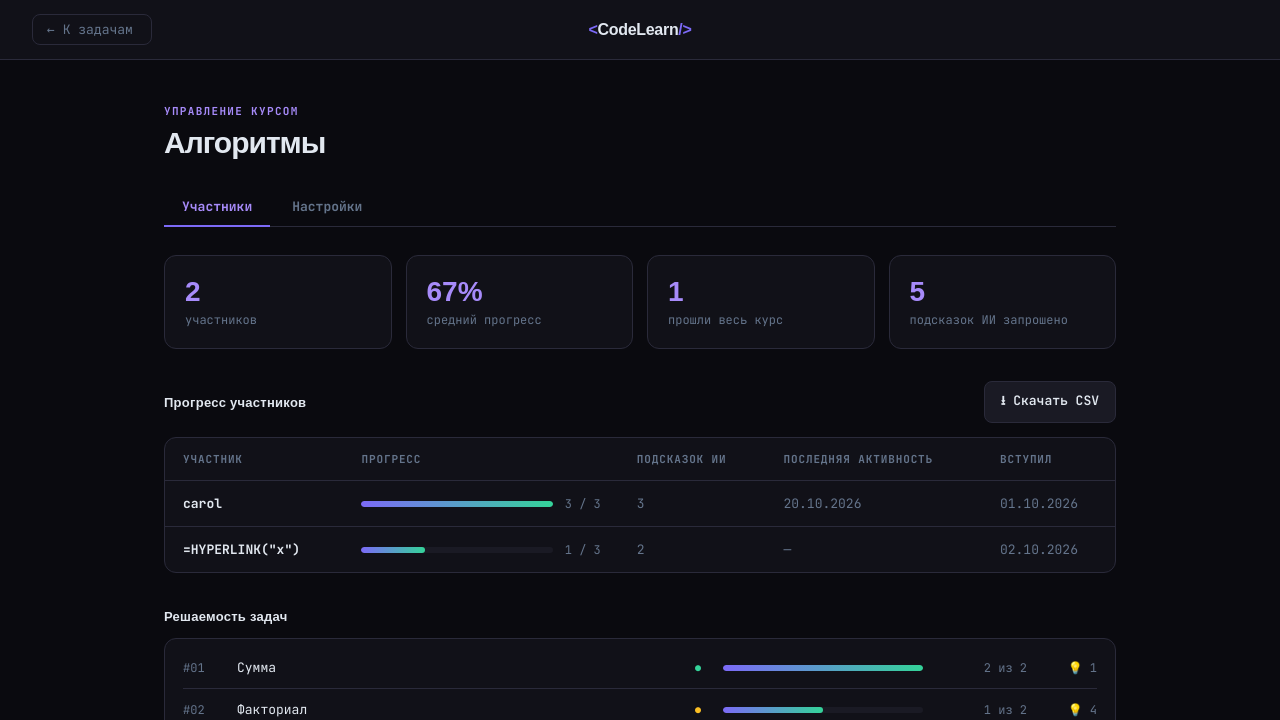
Test: вкладка «Настройки» › «Сохранить» неактивна без изменений; сохранение шлёт название и описание и сообщает App
Check: the text "Управление курсом" is shown, box [164, 104, 299, 118]
Click the tab "Настройки" at coordinates (327, 208), box [274, 188, 380, 227]
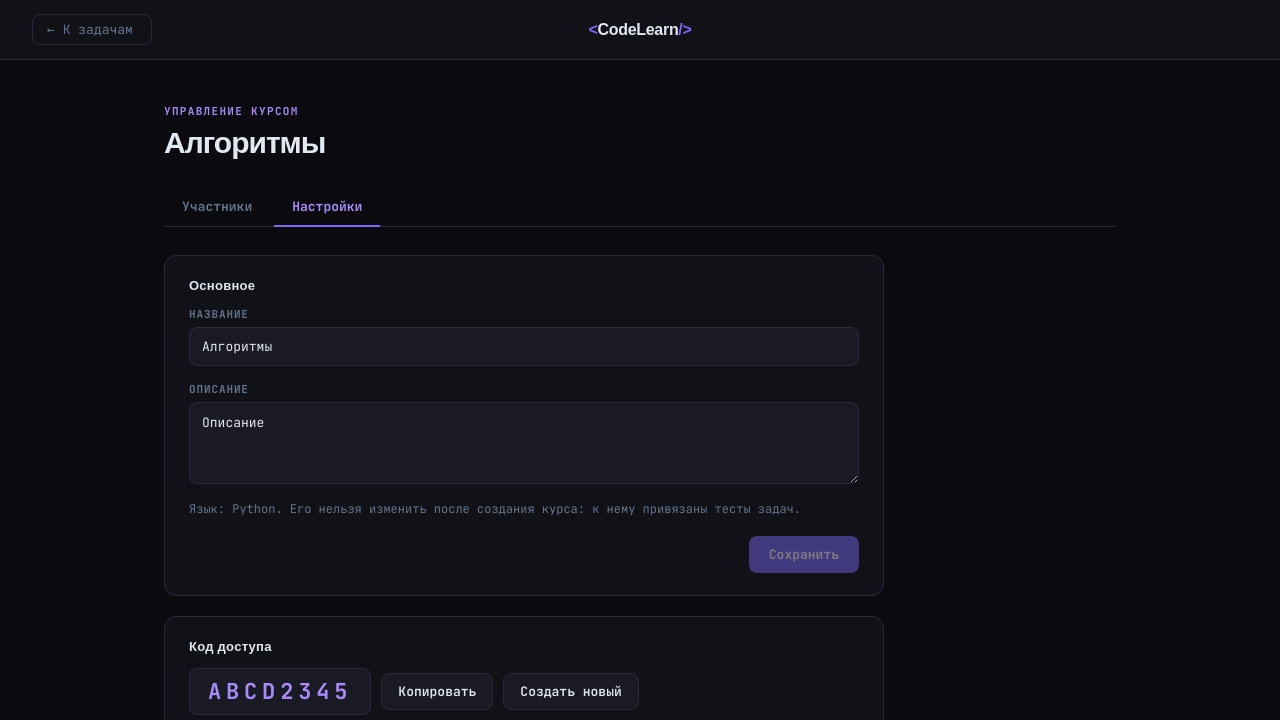
Check: the button "Сохранить" is disabled, box [749, 536, 859, 573]
Replace the text in the field labelled "Название" with "Новое имя" at coordinates (524, 346), box [189, 327, 859, 366]
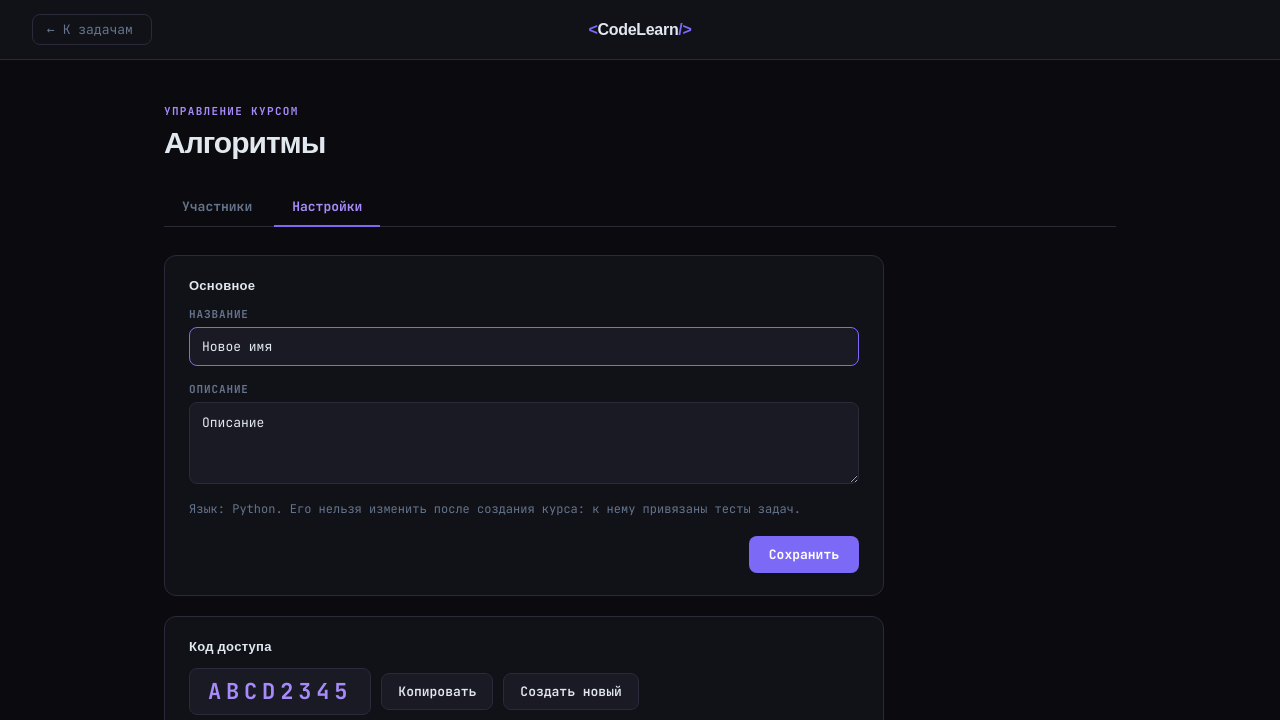
Check: the button "Сохранить" is enabled
Click the button "Сохранить" at coordinates (804, 554), box [749, 536, 859, 573]
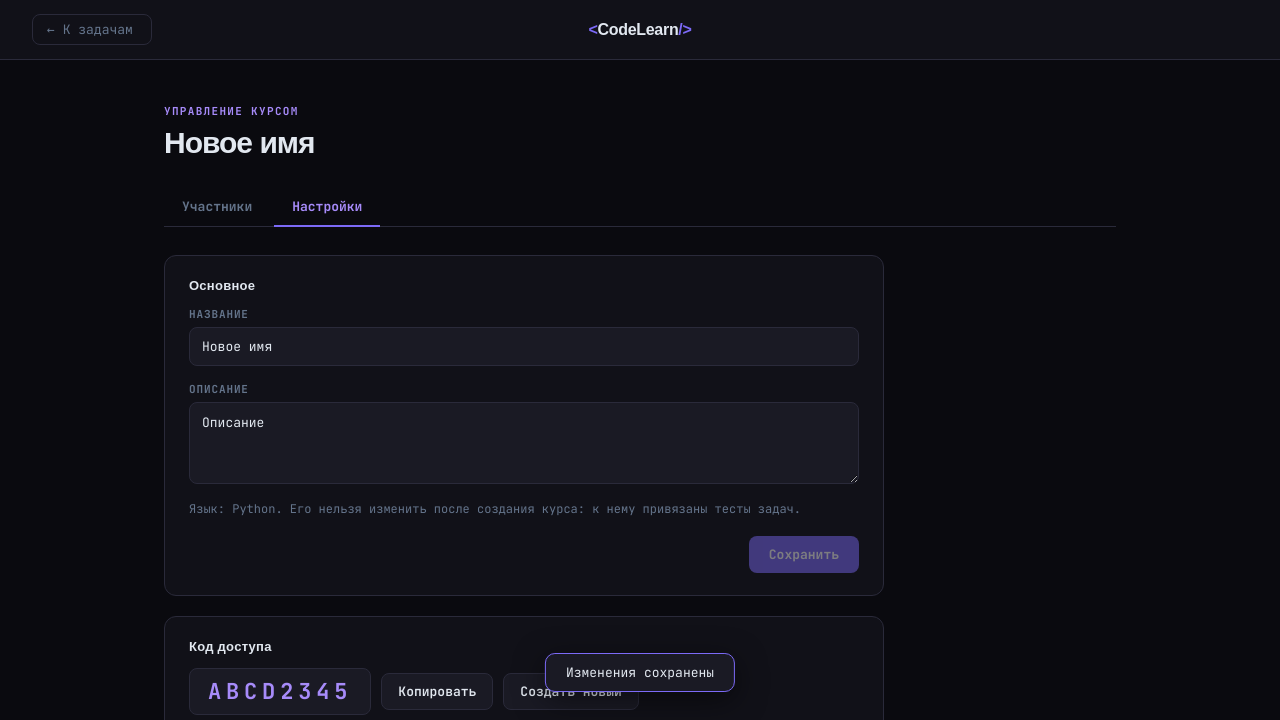
Check: the text "Изменения сохранены" is shown, box [545, 653, 735, 692]
Check: the heading "Новое имя" is shown, box [164, 126, 314, 159]
Check: the button "Сохранить" is disabled, box [749, 536, 859, 573]
